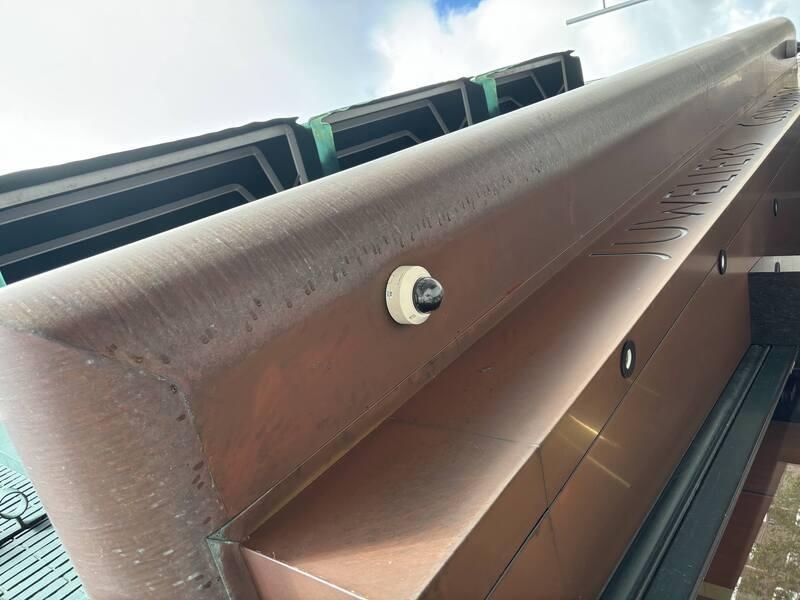dome: (270, 378, 339, 453)
